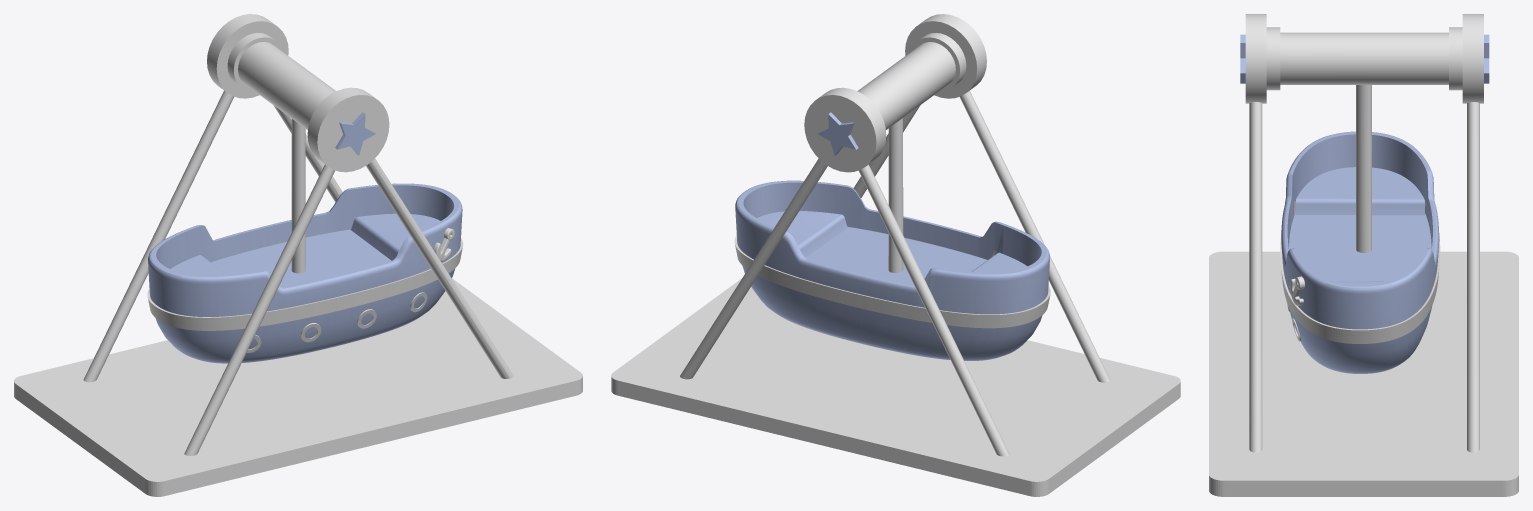
The model's file is Swing.glb.
3 renders of one model, left to right at view 1: azimuth 30°, elevation 25°; view 2: azimuth 150°, elevation 25°; view 3: azimuth 270°, elevation 25°, orthographic. The views are drawn at different scales.
Visible parts, largest first — view 1: Swing02, Swing01, Swing03, Star02; view 2: Swing02, Swing01, Swing03, Star02; view 3: Swing02, Swing01, Swing03, Star02.
Part boxes in pixels (x1=…): Swing02: x1=14, y1=278, x2=582, y2=496; Swing01: x1=147, y1=14, x2=463, y2=363; Swing03: x1=83, y1=90, x2=513, y2=455; Star02: x1=335, y1=112, x2=375, y2=155; Swing02: x1=611, y1=278, x2=1180, y2=496; Swing01: x1=734, y1=14, x2=1050, y2=360; Swing03: x1=680, y1=90, x2=1110, y2=456; Star02: x1=818, y1=112, x2=858, y2=155; Swing02: x1=1209, y1=251, x2=1518, y2=496; Swing01: x1=1245, y1=14, x2=1483, y2=373; Swing03: x1=1249, y1=102, x2=1479, y2=452; Star02: x1=1240, y1=34, x2=1489, y2=83.
Bounding box in the file's own units: 2.1 × 1.56 × 1.2.
